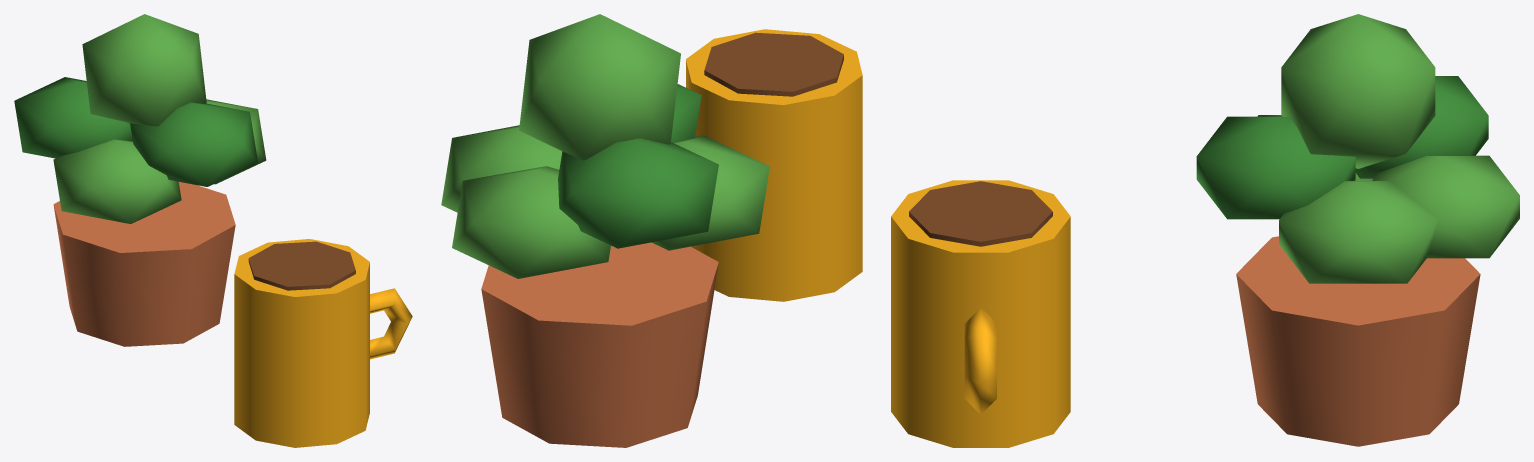
File: station_intake_ausstattung_3_1.glb
3 renders of one model, left to right at view 1: azimuth 30°, elevation 25°; view 2: azimuth 150°, elevation 25°; view 3: azimuth 270°, elevation 25°, orthographic. The views are drawn at different scales.
Parts seen in each view (by area): view 1: station_intake_ausstattung_3_1; view 2: station_intake_ausstattung_3_1; view 3: station_intake_ausstattung_3_1.
Boxes of the visible parts, box(x1,y1,x2,y2) form: station_intake_ausstattung_3_1: box(14, 14, 412, 447); station_intake_ausstattung_3_1: box(441, 14, 862, 447); station_intake_ausstattung_3_1: box(891, 14, 1519, 447).
Size of the model in its own units: 0.1873 by 0.2396 by 0.3499.
